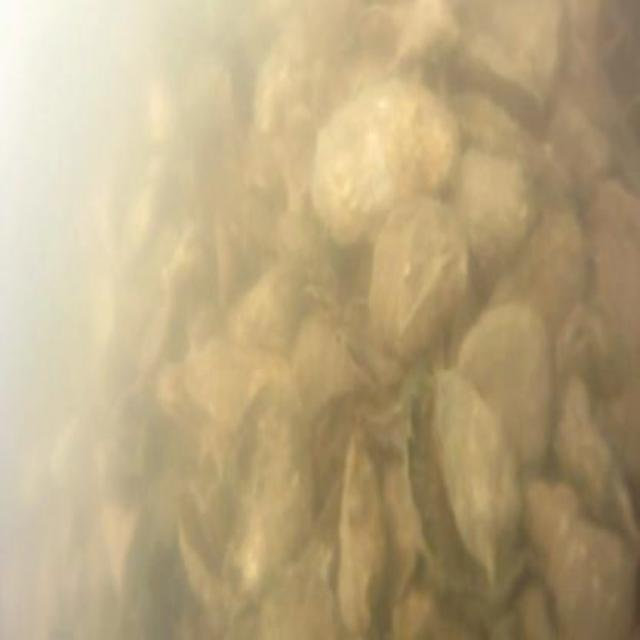Oyster-Closed: (312, 80, 462, 247), (222, 411, 322, 597), (370, 194, 472, 370), (456, 298, 553, 476), (191, 276, 286, 416), (552, 393, 636, 546), (458, 153, 537, 281), (555, 521, 637, 640), (498, 206, 585, 315), (340, 434, 386, 631), (470, 0, 558, 98), (293, 318, 368, 420), (591, 185, 640, 337)
Oyster-Open: (405, 369, 518, 593)
